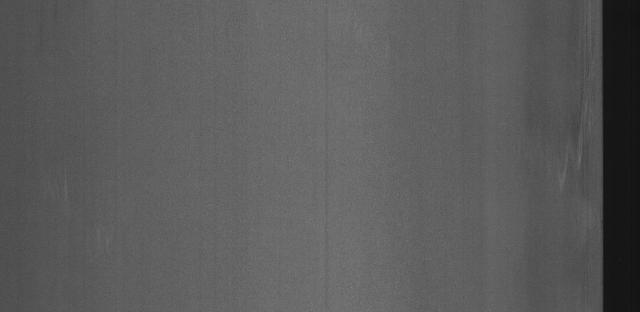silk_spot: (548, 38, 597, 196)
